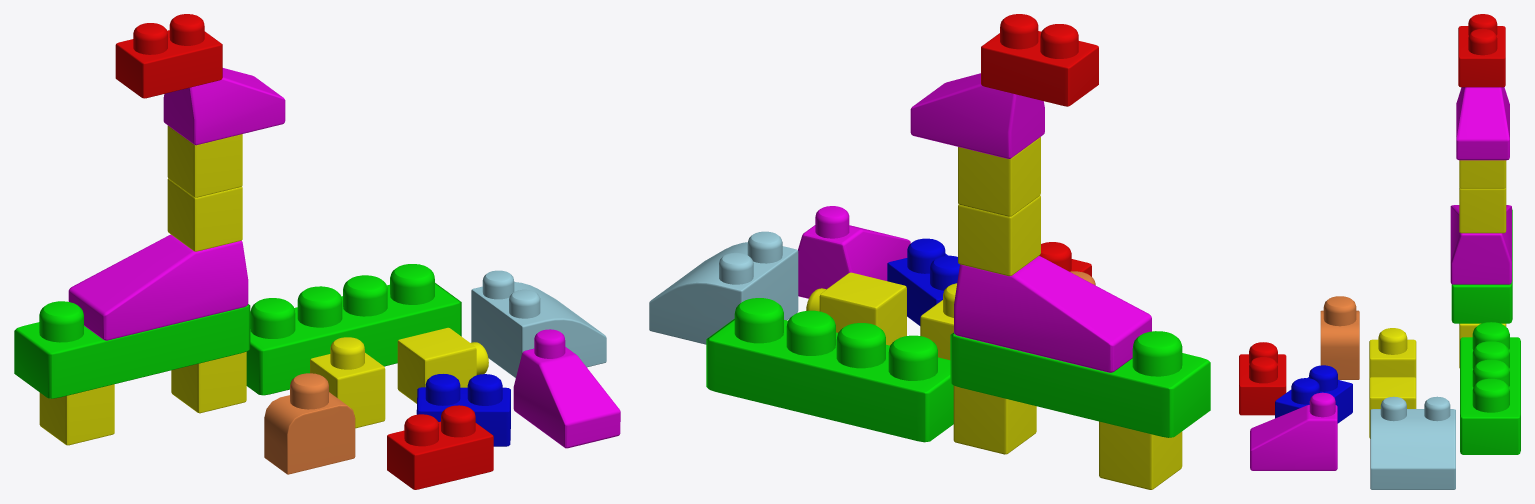
Rendered from Mega blocks.fbx.
The picture shows the model from 3 angles, left to right: view 1: azimuth 30°, elevation 25°; view 2: azimuth 150°, elevation 25°; view 3: azimuth 270°, elevation 25°; orthographic projection. The views are drawn at different scales.
Parts seen in each view (by area): view 1: Mega_blocks_giraffe, pCylinder24, pCube43, pCylinder23, pCylinder22, pCube42, pCube53, pCube52, pCube51; view 2: Mega_blocks_giraffe, pCylinder24, pCylinder23, pCube43, pCube53, pCube51, pCube52, pCube42; view 3: Mega_blocks_giraffe, pCylinder24, pCylinder23, pCube43, pCube42, pCylinder22, pCube51, pCube52, pCube53.
Boxes of the visible parts, x1=… form: Mega_blocks_giraffe: x1=14, y1=14, x2=285, y2=445; pCylinder24: x1=246, y1=264, x2=461, y2=395; pCube43: x1=513, y1=329, x2=620, y2=448; pCylinder23: x1=471, y1=270, x2=606, y2=377; pCylinder22: x1=264, y1=373, x2=355, y2=474; pCube42: x1=387, y1=405, x2=493, y2=489; pCube53: x1=397, y1=327, x2=488, y2=403; pCube52: x1=310, y1=337, x2=385, y2=428; pCube51: x1=416, y1=374, x2=510, y2=446; Mega_blocks_giraffe: x1=910, y1=14, x2=1210, y2=489; pCylinder24: x1=706, y1=298, x2=953, y2=442; pCylinder23: x1=649, y1=231, x2=798, y2=344; pCube43: x1=798, y1=206, x2=910, y2=298; pCube53: x1=806, y1=272, x2=906, y2=345; pCube51: x1=887, y1=238, x2=959, y2=325; pCube52: x1=920, y1=283, x2=956, y2=359; pCube42: x1=1039, y1=242, x2=1091, y2=276; Mega_blocks_giraffe: x1=1450, y1=14, x2=1512, y2=368; pCylinder24: x1=1460, y1=322, x2=1520, y2=454; pCylinder23: x1=1370, y1=396, x2=1455, y2=489; pCube43: x1=1250, y1=392, x2=1337, y2=470; pCube42: x1=1239, y1=342, x2=1286, y2=415; pCylinder22: x1=1320, y1=296, x2=1359, y2=379; pCube51: x1=1275, y1=365, x2=1352, y2=423; pCube52: x1=1369, y1=328, x2=1416, y2=378; pCube53: x1=1369, y1=377, x2=1416, y2=438.
Bounding box in the file's own units: 18.2 × 13.2 × 10.53.
